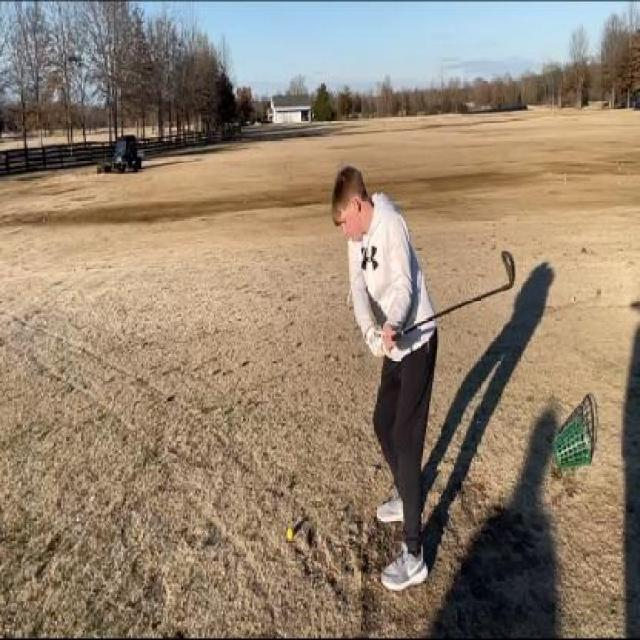club head: (499, 242, 516, 292)
